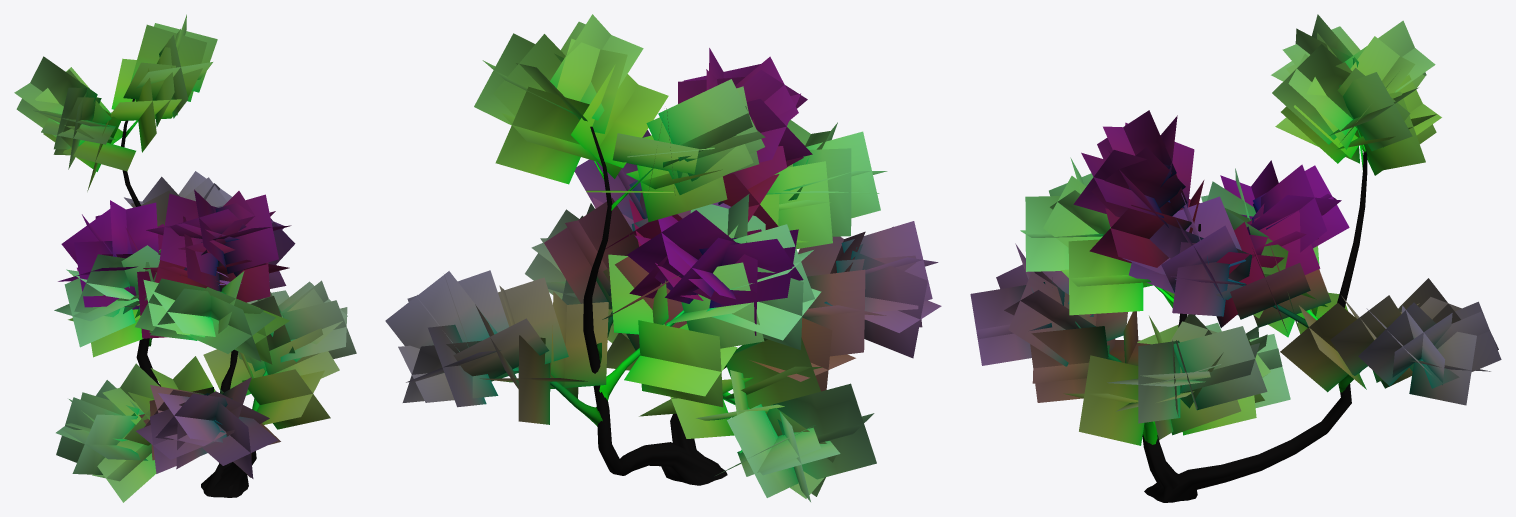
File: URP_P3_Tree_8_LOD_1.fbx
The picture shows the model from 3 angles, left to right: view 1: azimuth 30°, elevation 25°; view 2: azimuth 150°, elevation 25°; view 3: azimuth 270°, elevation 25°; orthographic projection. The views are drawn at different scales.
Visible parts, largest first — view 1: Tree_8_LOD_1; view 2: Tree_8_LOD_1; view 3: Tree_8_LOD_1.
Boxes of the visible parts, x1=… form: Tree_8_LOD_1: x1=14, y1=14, x2=356, y2=502; Tree_8_LOD_1: x1=385, y1=14, x2=941, y2=501; Tree_8_LOD_1: x1=970, y1=14, x2=1501, y2=502.
Bounding box in the file's own units: 510 × 728 × 768.
